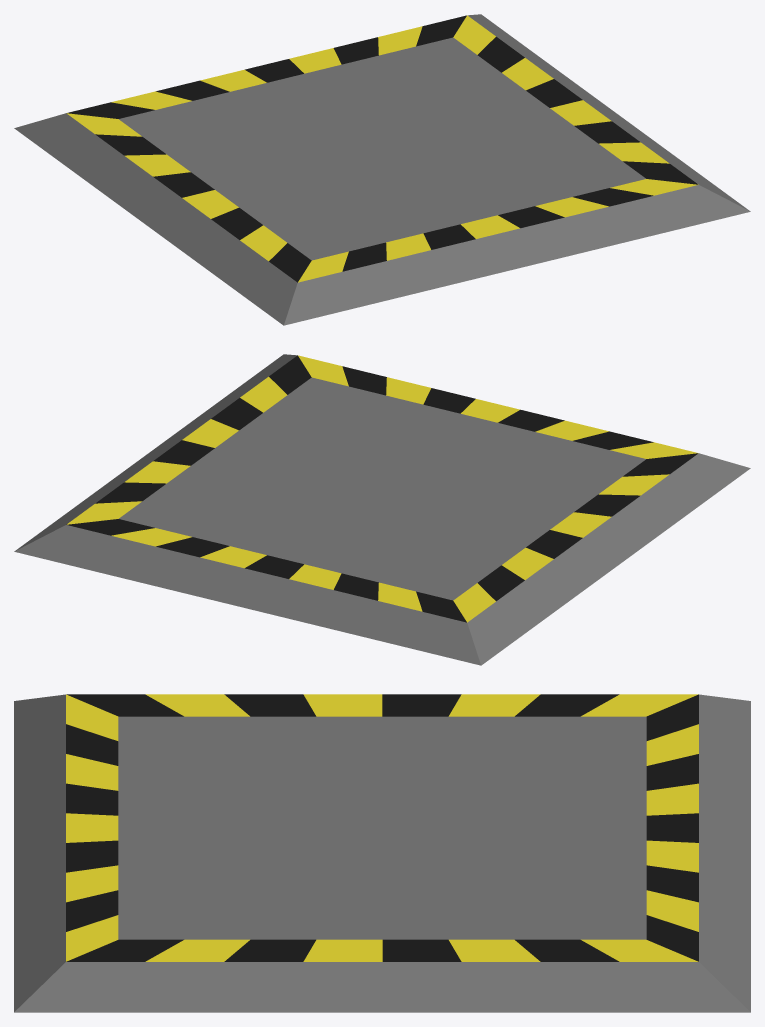
Rendered from buildZonePad.fbx.
The picture shows the model from 3 angles, top to bottom: view 1: azimuth 30°, elevation 25°; view 2: azimuth 150°, elevation 25°; view 3: azimuth 270°, elevation 25°; orthographic projection. The views are drawn at different scales.
Visible parts, largest first — view 1: Build Zone Pad; view 2: Build Zone Pad; view 3: Build Zone Pad.
Boxes of the visible parts, x1,y1,x2,y2 form: Build Zone Pad: (14,14,750,325); Build Zone Pad: (14,354,750,665); Build Zone Pad: (14,694,750,1012).
Size of the model in its own units: 466 by 466 by 20.
